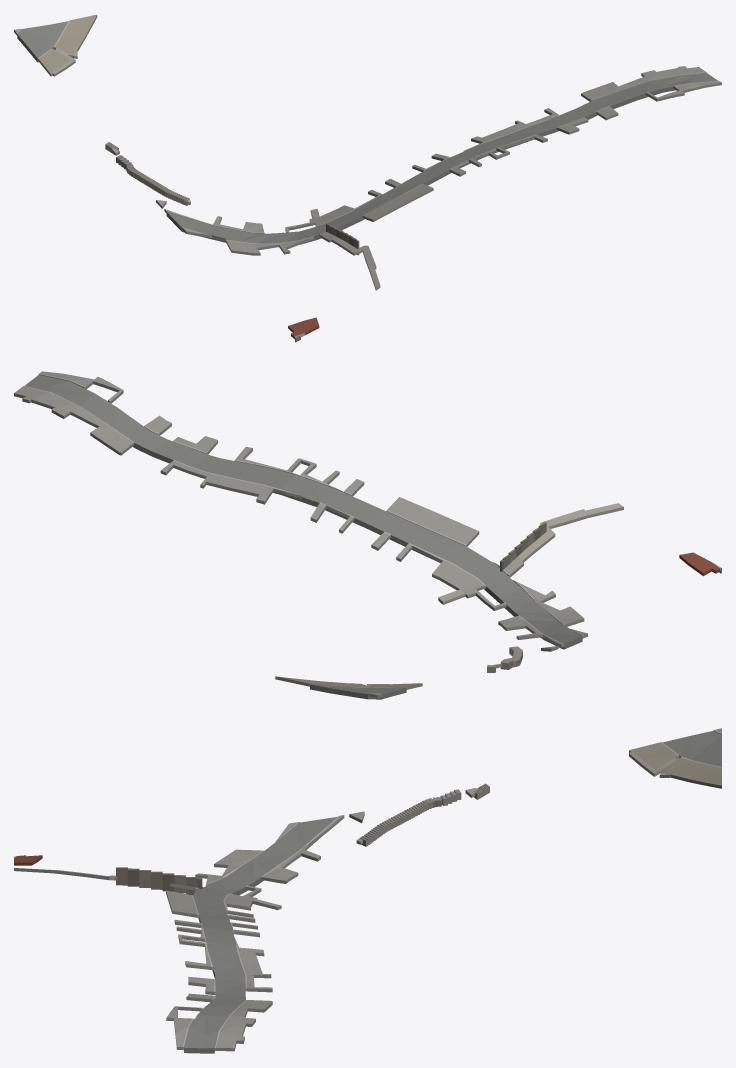
File: 18-218882-118952.2ebb62e5.glb
3 views of the same model, one above another, from view 1: azimuth 30°, elevation 25°; view 2: azimuth 150°, elevation 25°; view 3: azimuth 270°, elevation 25° (orthographic). The views are drawn at different scales.
Bounding box in the file's own units: 148 × 30.42 × 146.
